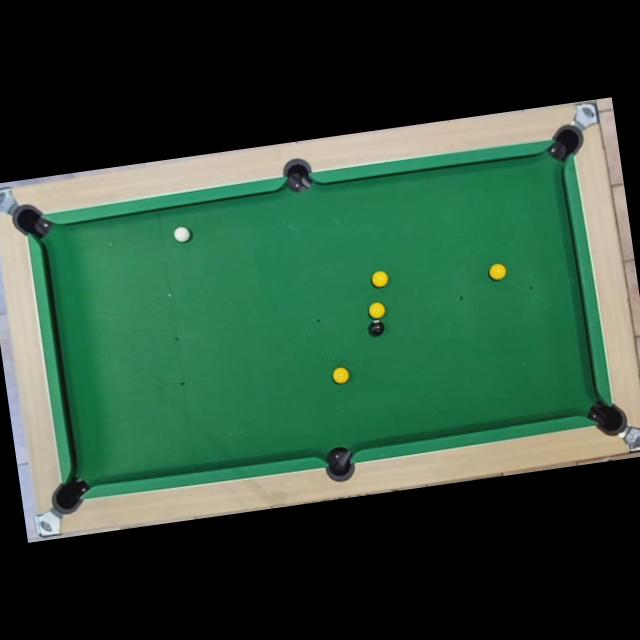Ball: (488, 263, 508, 281), (370, 270, 390, 288), (332, 366, 350, 384), (368, 302, 386, 320), (368, 318, 385, 336), (174, 227, 192, 244)
